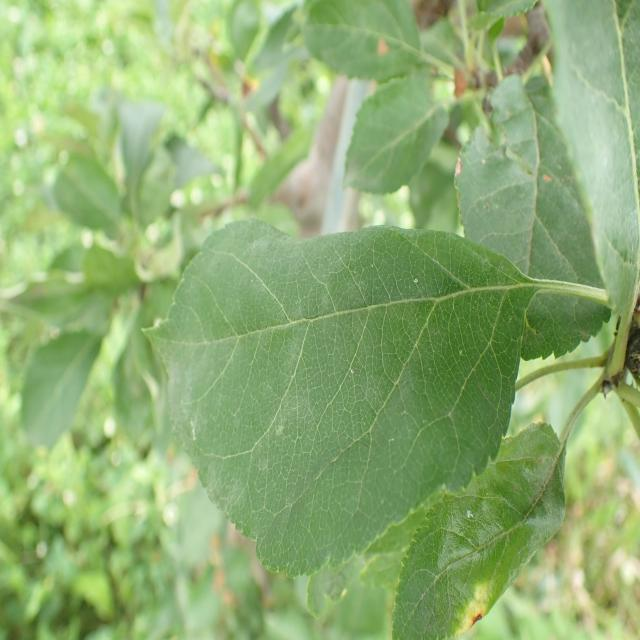Powdery_mildew: (170, 219, 518, 516)
Rust: (440, 582, 499, 635)
